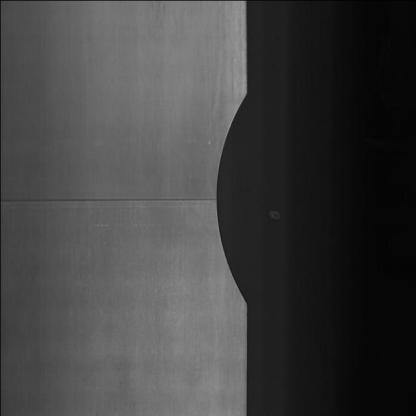crescent_gap: (211, 91, 256, 310)
welding_line: (0, 176, 228, 214)
